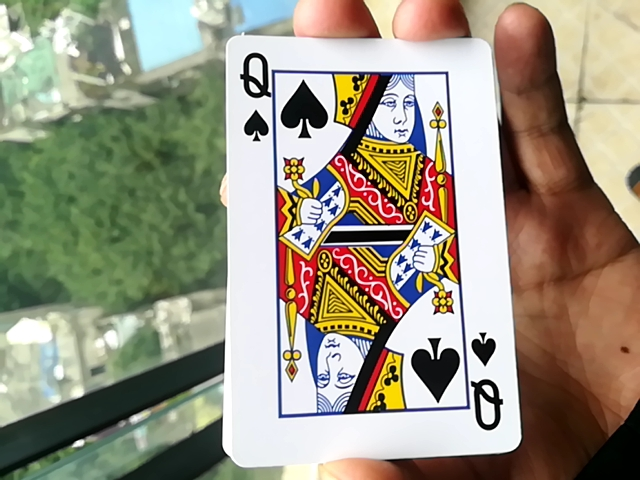ht q: (221, 21, 507, 466)
